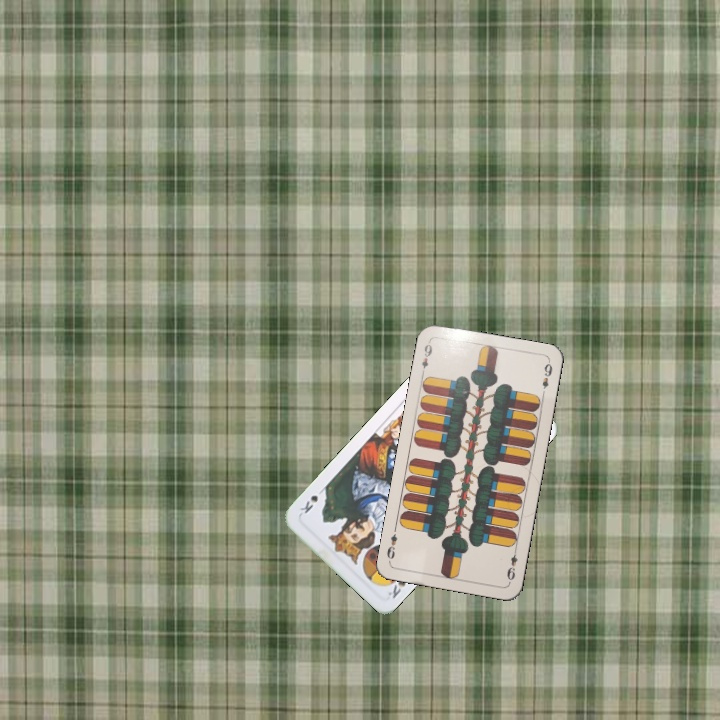E9: (503, 544, 520, 585), (418, 337, 435, 371)
SK: (384, 575, 408, 601)
